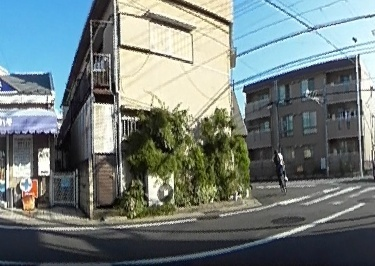person: (271, 148, 287, 185)
